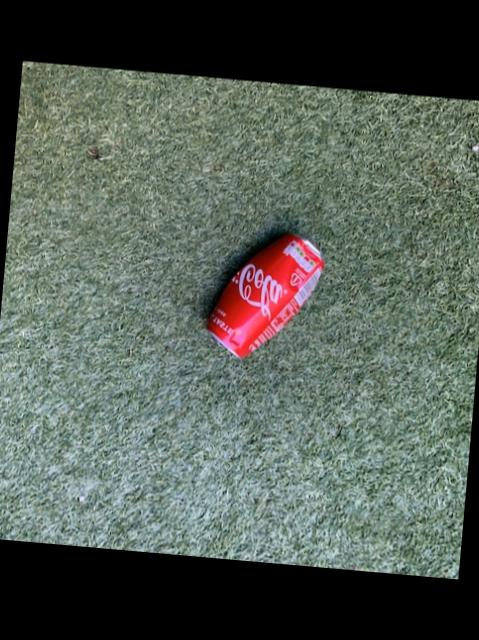metal: (205, 233, 320, 356)
